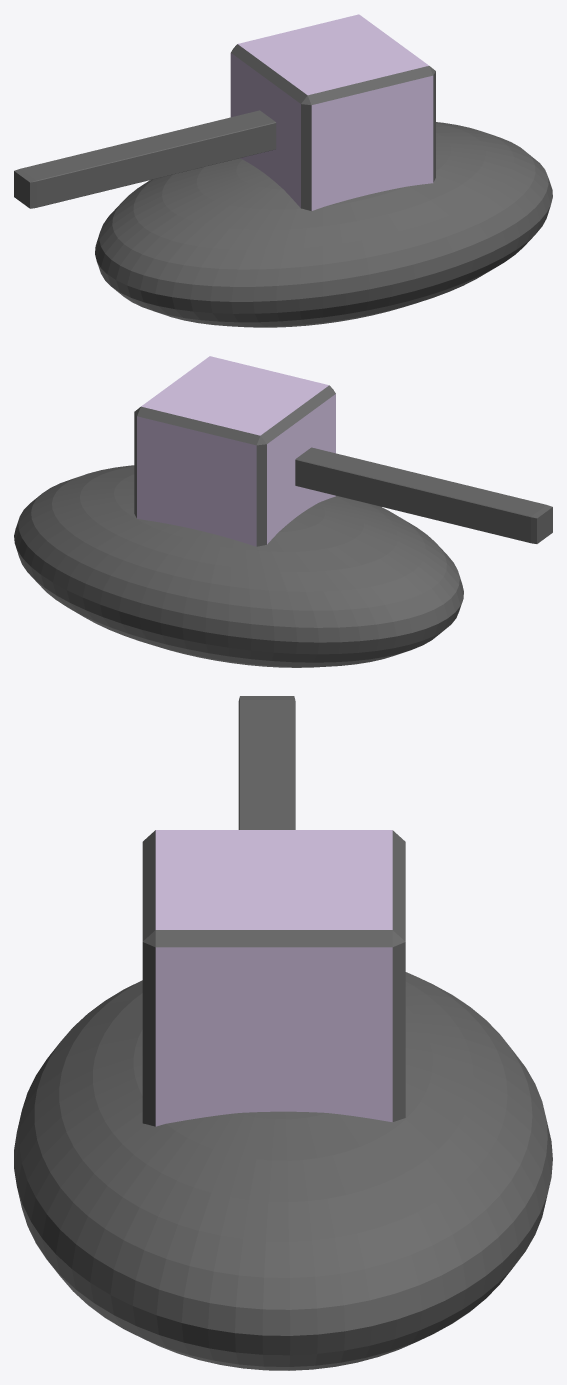
Rendered from Tank(3).fbx.
The picture shows the model from 3 angles, top to bottom: view 1: azimuth 30°, elevation 25°; view 2: azimuth 150°, elevation 25°; view 3: azimuth 270°, elevation 25°; orthographic projection. The views are drawn at different scales.
Visible parts, largest first — view 1: Cube; view 2: Cube; view 3: Cube.
Boxes of the visible parts, x1,y1,x2,y2 form: Cube: [14, 14, 552, 327]; Cube: [14, 356, 552, 667]; Cube: [14, 696, 552, 1370].
Bounding box in the file's own units: 321 × 140 × 170.
